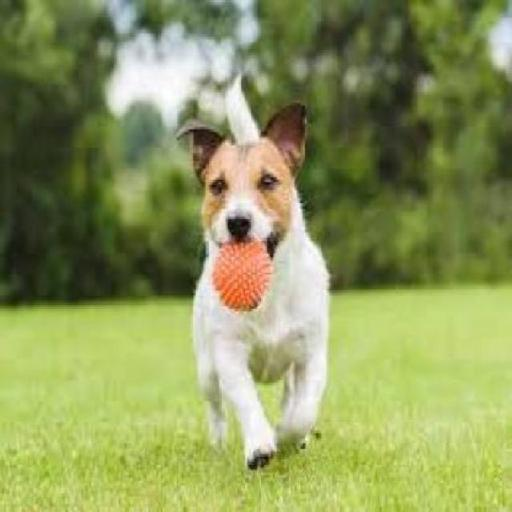Dog: (174, 115, 336, 471)
